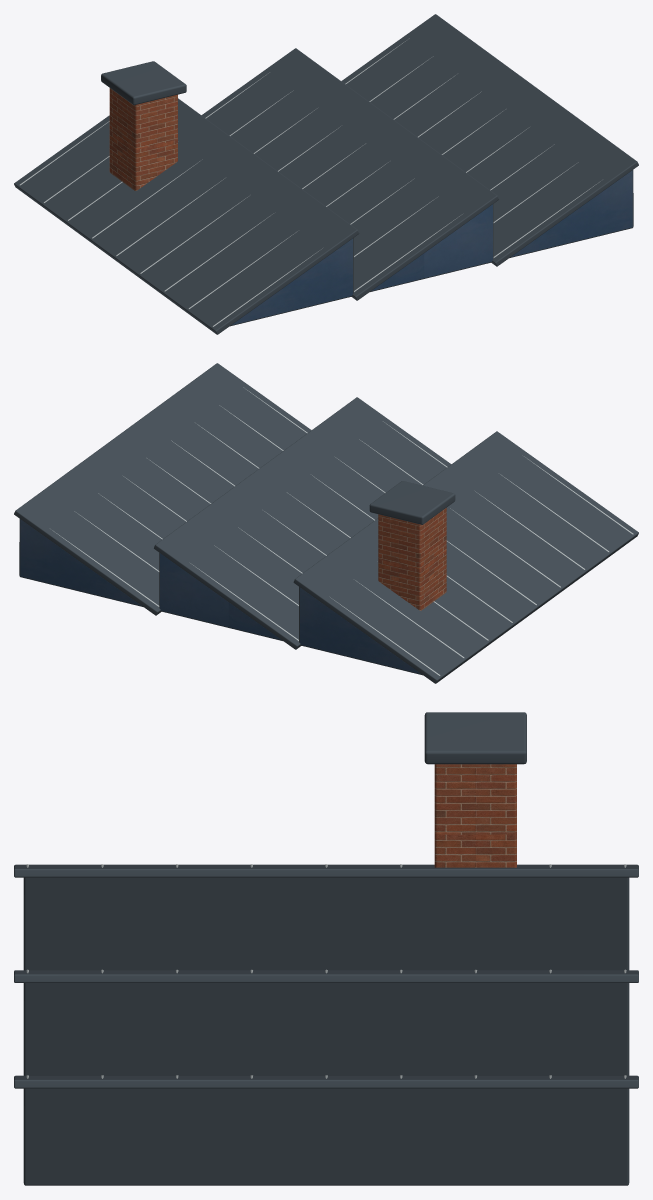
The model's file is roof.glb.
3 views of the same model, one above another, from view 1: azimuth 30°, elevation 25°; view 2: azimuth 150°, elevation 25°; view 3: azimuth 270°, elevation 25° (orthographic). The views are drawn at different scales.
Parts seen in each view (by area): view 1: roof; view 2: roof; view 3: roof.
Part boxes in pixels (box(x1,y1,x2,y2)): roof: box(14, 14, 638, 334); roof: box(14, 363, 638, 683); roof: box(14, 712, 638, 1185).
Size of the model in its own units: 3.85 by 1.12 by 3.18.
Materials: 4 (2 with a texture image).
